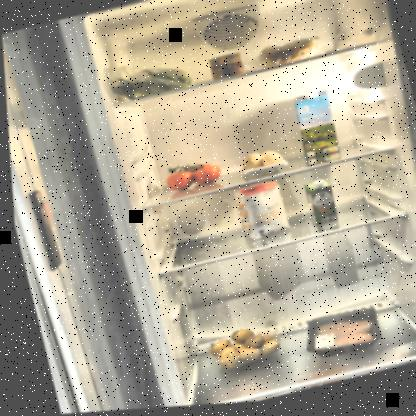chicken: (296, 310, 378, 361)
corn: (203, 52, 247, 87)
eggs: (234, 147, 293, 180)
green_beans: (112, 59, 198, 107)
heavy_cream: (299, 180, 336, 232)
milk: (287, 89, 343, 170)
potato: (197, 323, 274, 375)
tomato: (160, 159, 224, 196)
